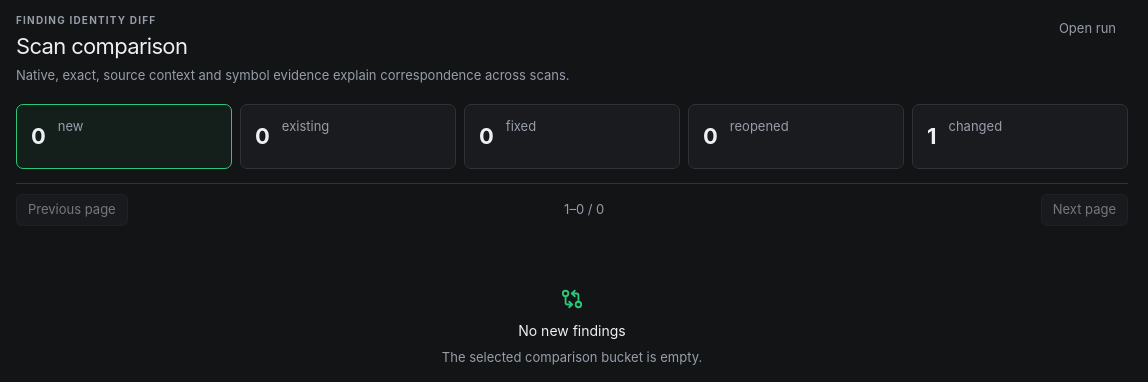
Test case: investigation workflow › filters the comparison into Changed and Reopened buckets
Click the button "1 changed" at (1020, 136), box [912,104,1128,169]
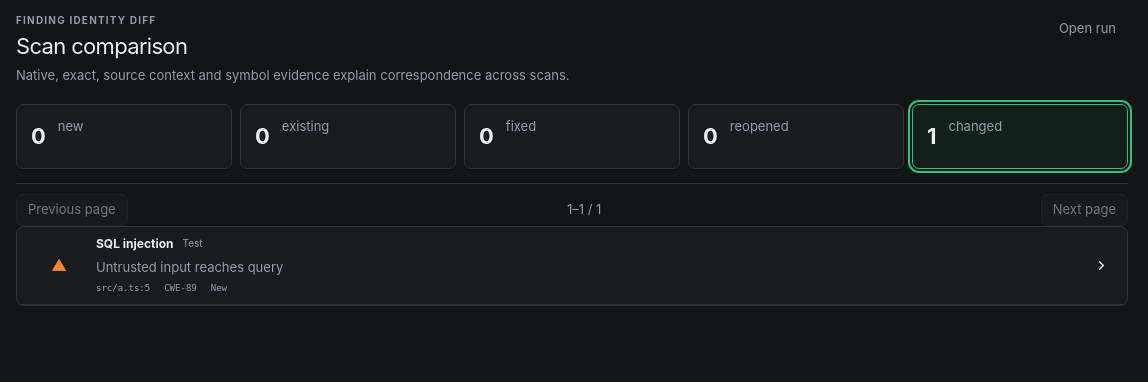
Now the link "SQL injection" is shown, box [17,227,1127,305]
Click the button "0 reopened" at (796, 136), box [688,104,904,169]
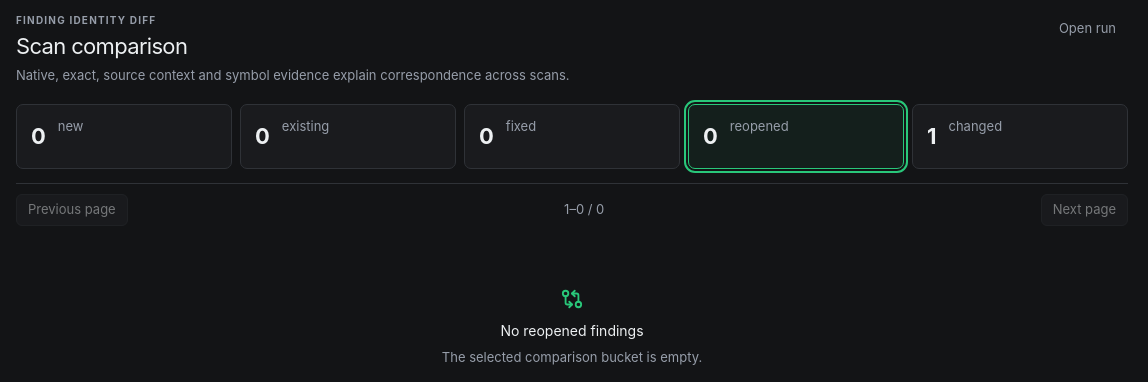
Now the link "SQL injection" is gone
Now the heading "No reopened findings" is shown, box [500,320,644,342]
